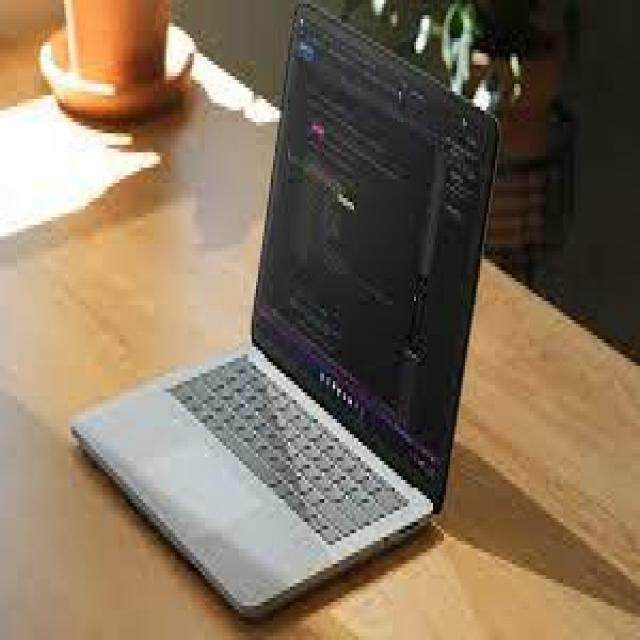others: (56, 8, 490, 617)
